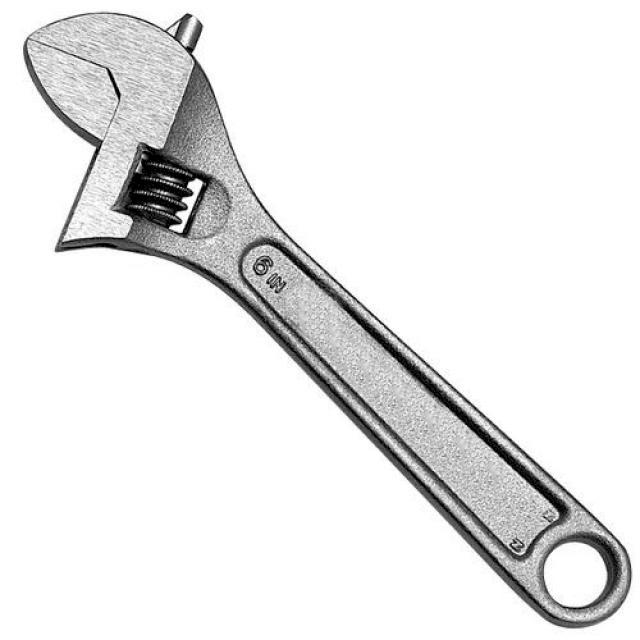wrench: (21, 6, 634, 640)
